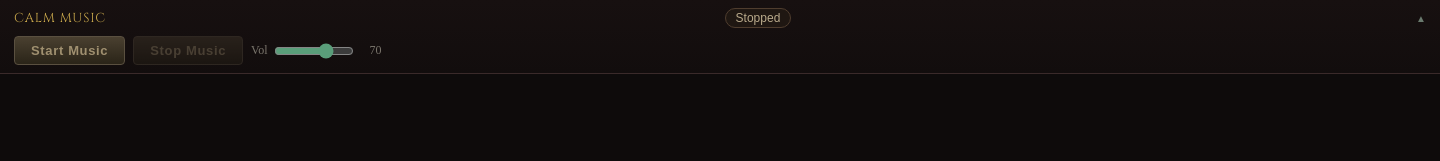
it: MusicPlayer › Intent row shows all bar chips after phrase is scheduled (AC-014)
The width and height of the screenshot is (1440, 161).
Click the button "Start Music" at (70, 50), box x1=14 y1=36 x2=125 y2=65
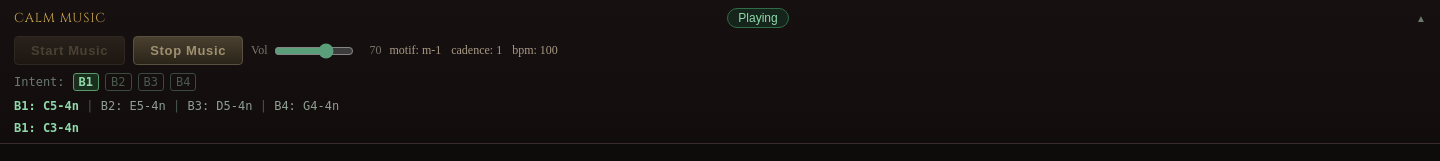
expect the text "Intent:" is shown: met, box x1=14 y1=75 x2=65 y2=89
expect the text "B1" is shown: met, box x1=73 y1=73 x2=99 y2=91
expect the text "B2" is shown: met, box x1=105 y1=73 x2=132 y2=91
